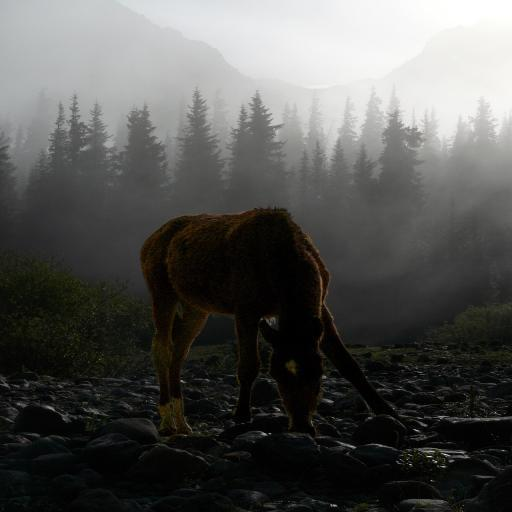horse: (135, 206, 402, 440)
